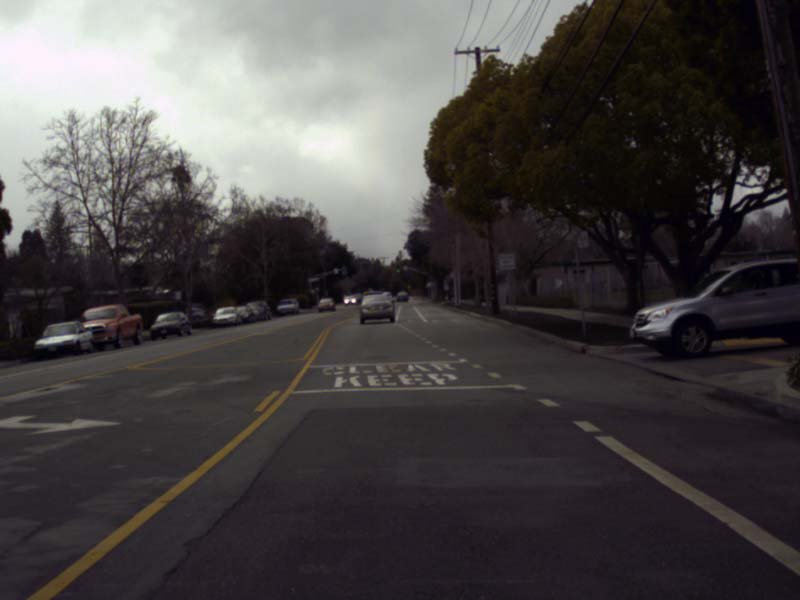Green: (395, 265, 400, 272), (314, 282, 317, 291)
